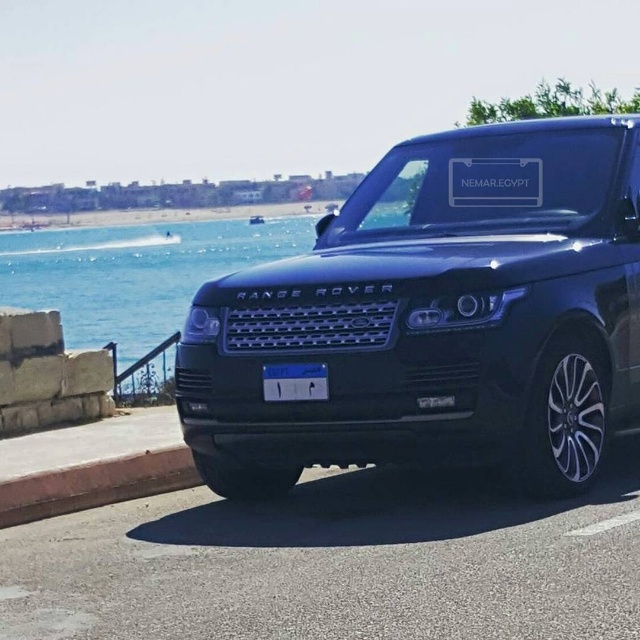License Plate: (257, 360, 332, 404)
